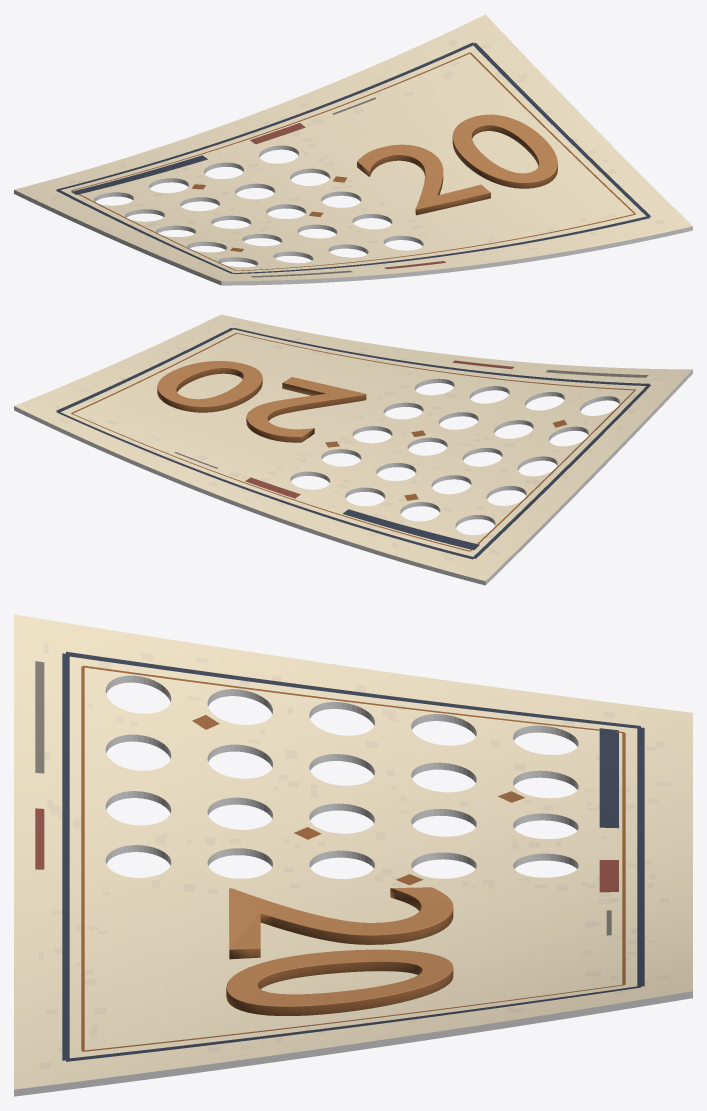
Rendered from runs_20.glb.
The picture shows the model from 3 angles, top to bottom: view 1: azimuth 30°, elevation 25°; view 2: azimuth 150°, elevation 25°; view 3: azimuth 270°, elevation 25°; orthographic projection. The views are drawn at different scales.
Parts seen in each view (by area): view 1: C_Card, C_Num, C_Frame, C_Fibre, C_Title; view 2: C_Card, C_Num, C_Frame, C_Fibre, C_Title, C_Footer; view 3: C_Card, C_Num, C_Frame, C_Fibre, C_Title, C_Footer, C_Marks.
Boxes of the visible parts, left/top/right/bottom form: C_Card: left=14, top=14, right=692, bottom=285; C_Num: left=357, top=114, right=557, bottom=215; C_Frame: left=56, top=42, right=650, bottom=273; C_Fibre: left=50, top=39, right=664, bottom=276; C_Title: left=71, top=97, right=376, bottom=194; C_Card: left=14, top=314, right=692, bottom=585; C_Num: left=157, top=361, right=366, bottom=442; C_Frame: left=56, top=328, right=650, bottom=559; C_Fibre: left=53, top=322, right=662, bottom=560; C_Title: left=174, top=452, right=479, bottom=550; C_Footer: left=452, top=360, right=648, bottom=377; C_Card: left=14, top=614, right=692, bottom=1096; C_Num: left=226, top=887, right=453, bottom=1015; C_Frame: left=62, top=651, right=644, bottom=1061; C_Fibre: left=38, top=643, right=669, bottom=1069; C_Title: left=599, top=728, right=618, bottom=935; C_Footer: left=35, top=661, right=44, bottom=869; C_Marks: left=192, top=715, right=524, bottom=885.
Size of the model in its own units: 0.0394 by 0.00514 by 0.03.
